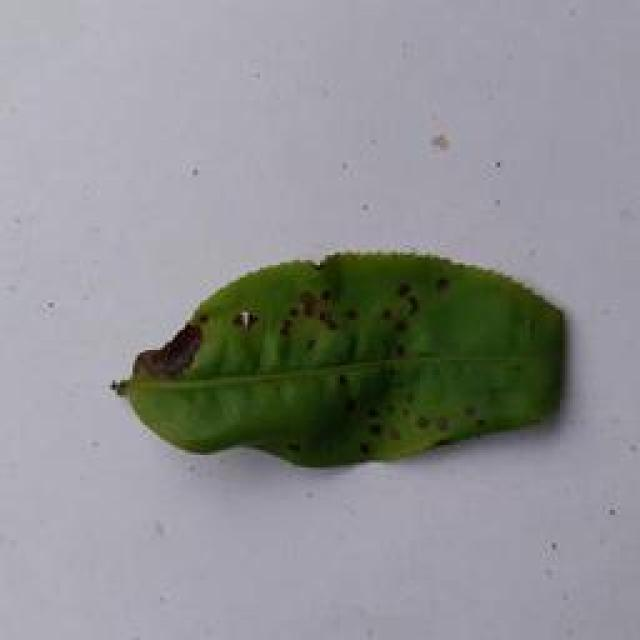Helopeltis: (116, 243, 579, 470)
